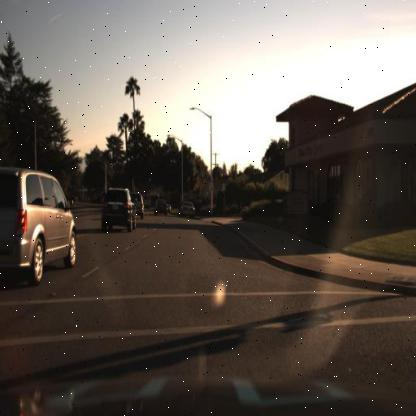car: (0, 162, 81, 290), (98, 181, 135, 234), (151, 193, 169, 221), (178, 199, 196, 220)
